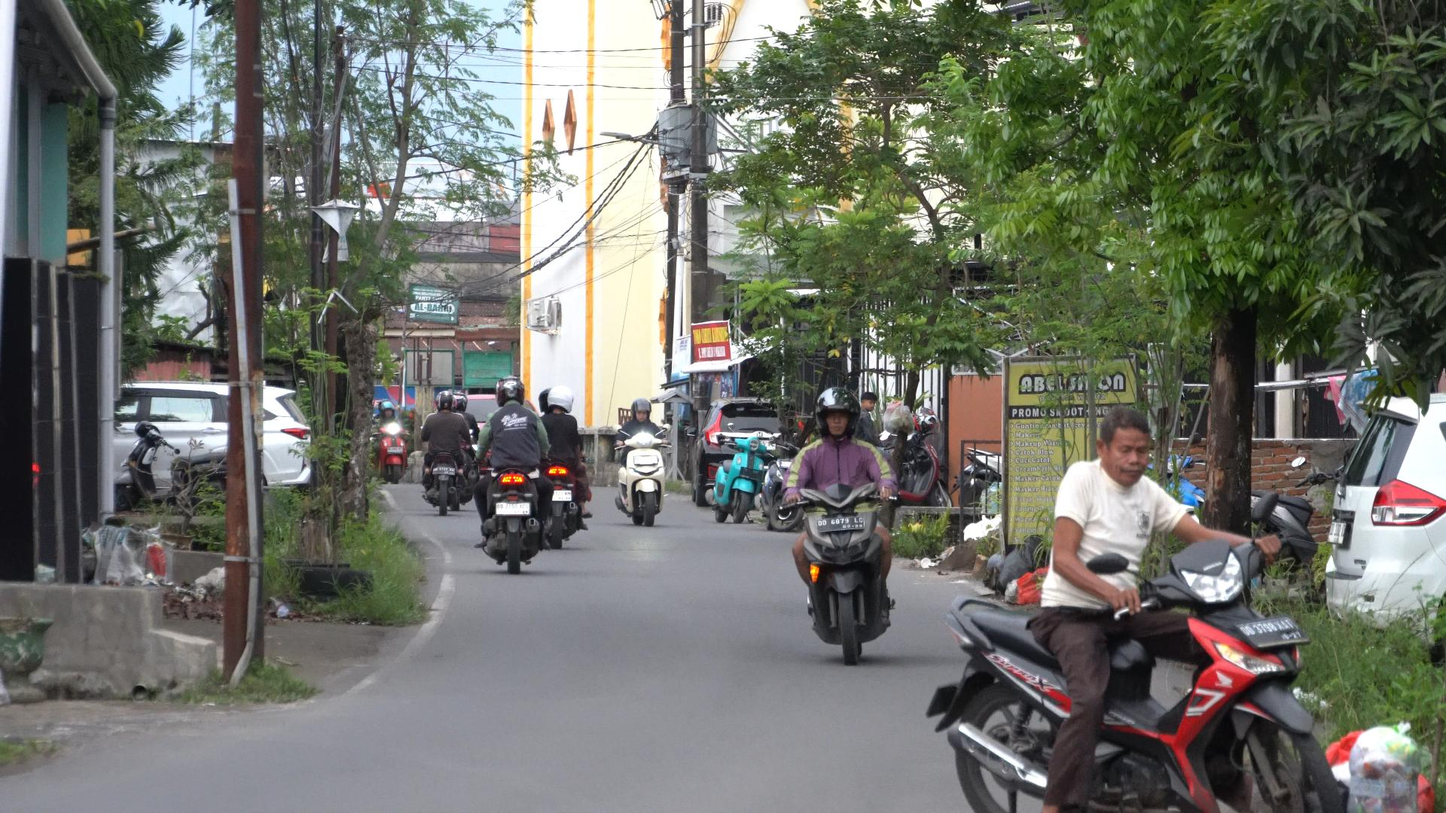number-plate: (813, 514, 864, 536)
